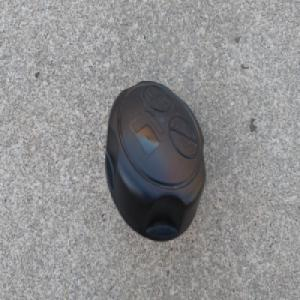FuelCap: (103, 79, 206, 244)
